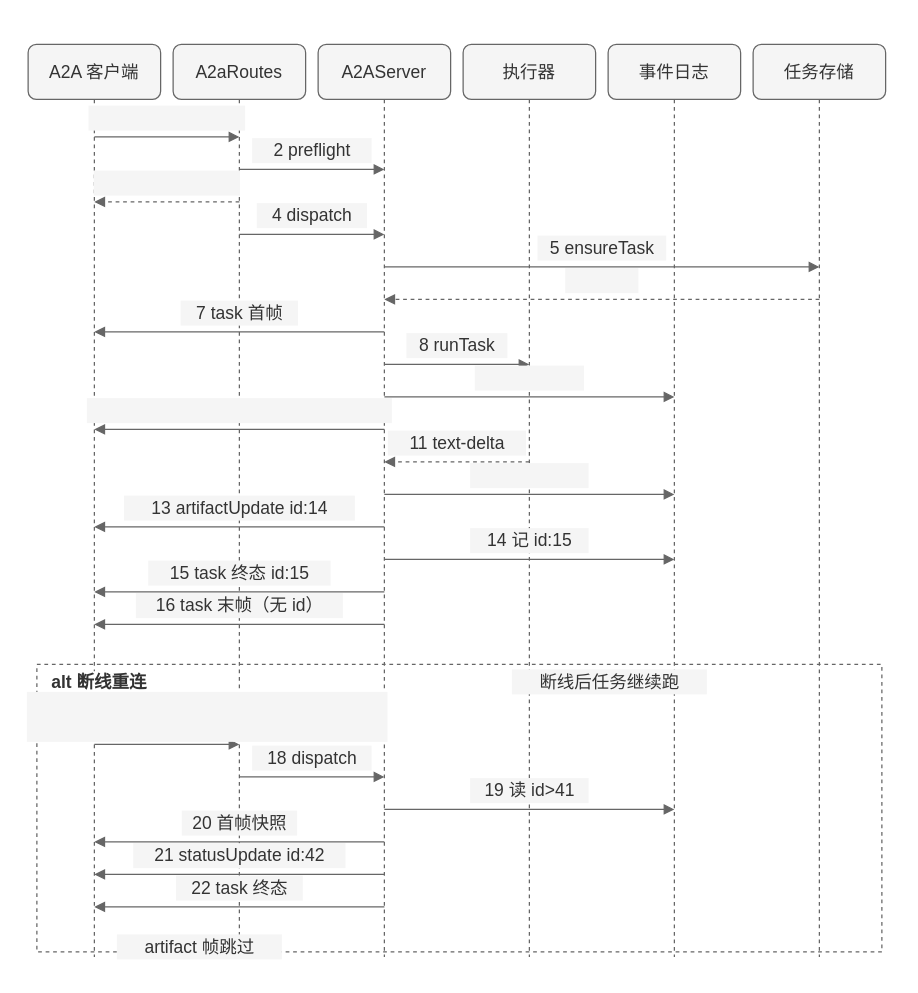
Some shapes in this 918 by 993 pixel diagram are drawn without their labels. Here are the shapes that lost their labels. From the top down, the centre of each, then its label:
(166,117): 1 POST + Accept
(166,182): 3 200 + SSE 头
(601,280): 6 Task
(528,377): 9 记 id:13
(238,410): 10 statusUpdate id:13 (WORKING)
(529,475): 12 记 id:14
(206,716): 17 SubscribeToTask + Last-Event-ID
